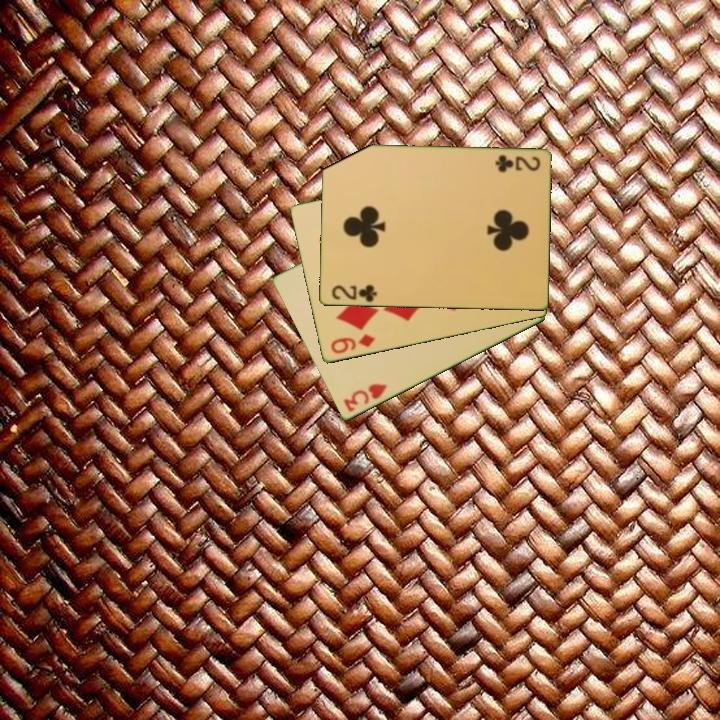2c: (328, 282, 379, 305), (491, 152, 542, 174)
3h: (340, 380, 390, 415)
9d: (327, 331, 378, 357)
